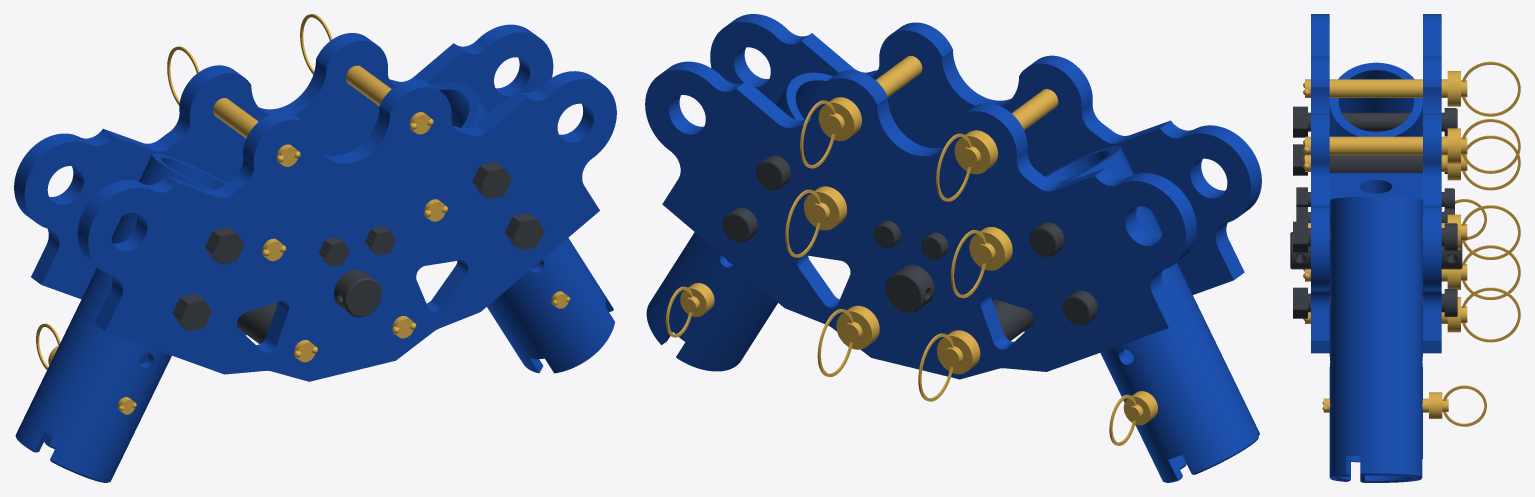
File: 00_cabeza_armada.glb
3 renders of one model, left to right at view 1: azimuth 30°, elevation 25°; view 2: azimuth 150°, elevation 25°; view 3: azimuth 270°, elevation 25°, orthographic. The views are drawn at different scales.
Visible parts, largest first — view 1: placa_trasera, placa_delantera, cas_i, cas_d, pas_A2, barra_B, pas_A1, perno_SD1, perno_SD2, perno_SI2, perno_SI1, sep_I3 (+3 smaller); view 2: placa_delantera, placa_trasera, cas_i, cas_d, pas_A1, pas_A2, pas_I4, pas_I1, pas_I3, pas_I2, barra_B, pp_i (+6 smaller); view 3: cas_d, placa_delantera, placa_trasera, cas_i, pas_A2, pas_A1, bloque_c, perno_SI1, sep_I1, pas_I1, pas_I4, pas_I3 (+8 smaller).
Boxes of the visible parts, x1,y1,x2,y2 form: placa_trasera: [77, 71, 616, 381]; placa_delantera: [14, 24, 553, 335]; cas_i: [15, 153, 226, 482]; cas_d: [433, 82, 614, 373]; pas_A2: [300, 14, 433, 134]; barra_B: [334, 269, 381, 317]; pas_A1: [167, 46, 300, 166]; perno_SD1: [472, 161, 511, 199]; perno_SD2: [505, 212, 544, 250]; perno_SI2: [172, 293, 211, 331]; perno_SI1: [205, 227, 244, 264]; sep_I3: [237, 303, 277, 343]; placa_delantera: [645, 61, 1196, 379]; placa_trasera: [710, 14, 1261, 331]; cas_i: [1044, 145, 1259, 482]; cas_d: [646, 72, 833, 371]; pas_A1: [936, 89, 1058, 201]; pas_A2: [800, 56, 922, 168]; pas_I4: [817, 305, 879, 376]; pas_I1: [950, 227, 1012, 298]; pas_I3: [918, 330, 980, 401]; pas_I2: [785, 186, 847, 257]; barra_B: [885, 264, 934, 313]; pp_i: [1109, 391, 1157, 445]; cas_d: [1329, 196, 1422, 482]; placa_delantera: [1423, 14, 1441, 353]; placa_trasera: [1311, 14, 1329, 353]; cas_i: [1329, 62, 1422, 136]; pas_A2: [1303, 119, 1520, 173]; pas_A1: [1303, 61, 1520, 116]; bloque_c: [1329, 173, 1422, 199]; perno_SI1: [1293, 106, 1457, 137]; sep_I1: [1329, 155, 1422, 172]; pas_I1: [1303, 135, 1520, 190]; pas_I4: [1303, 287, 1520, 342]; pas_I3: [1303, 245, 1520, 299].
Size of the model in its own units: 404 by 227 by 157.
